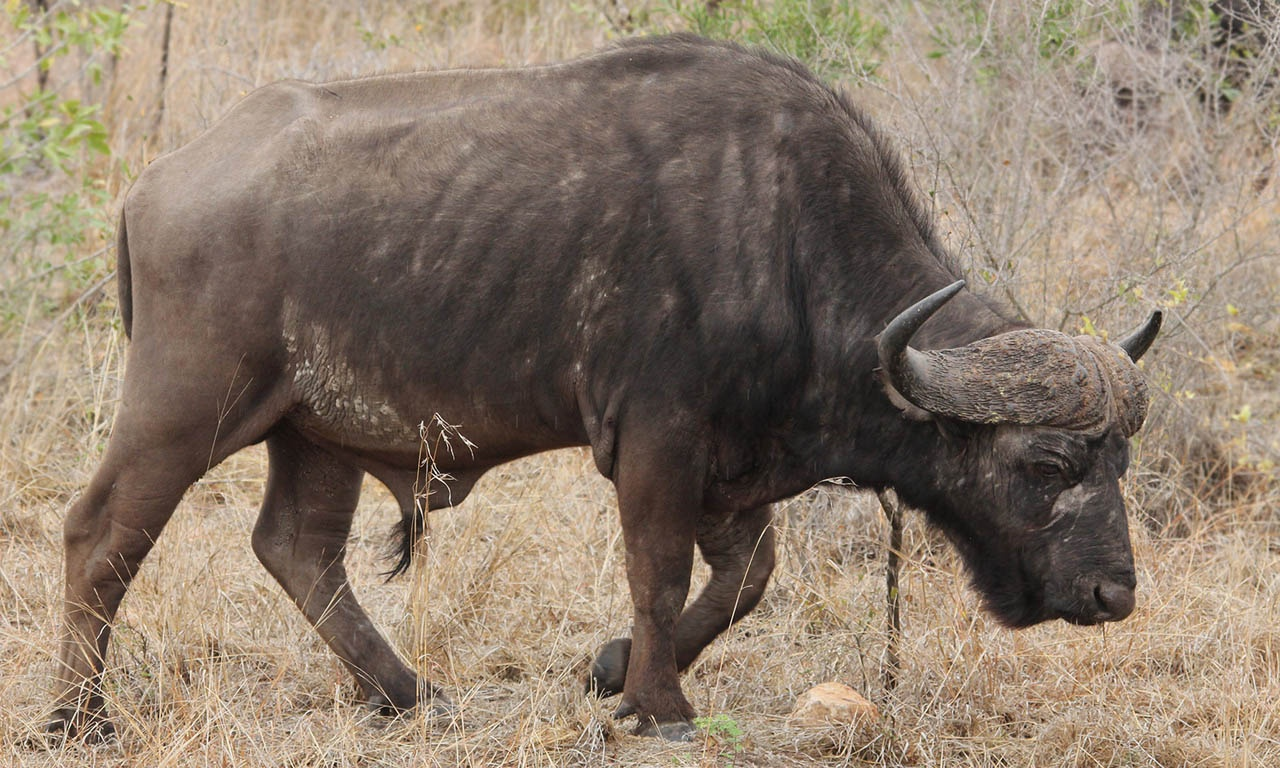buffalo: (38, 29, 1166, 738)
